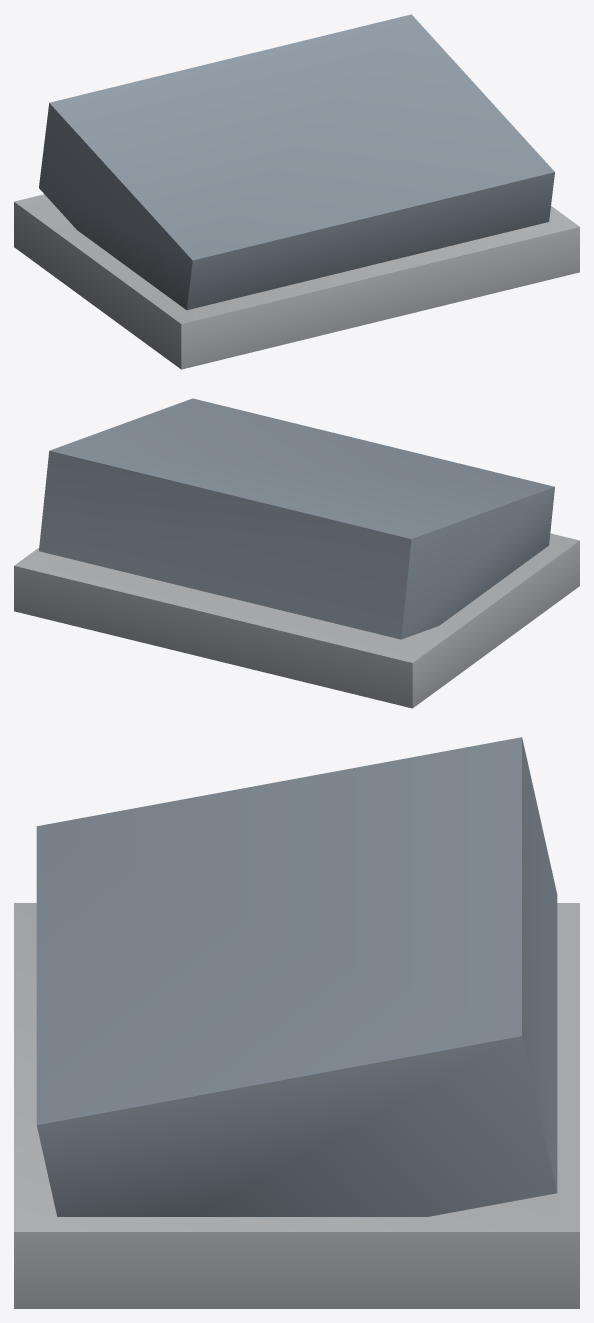
Rendered from skylight.lod2.glb.
3 views of the same model, one above another, from view 1: azimuth 30°, elevation 25°; view 2: azimuth 150°, elevation 25°; view 3: azimuth 270°, elevation 25° (orthographic). The views are drawn at different scales.
Parts seen in each view (by area): view 1: props_skylight.lod2; view 2: props_skylight.lod2; view 3: props_skylight.lod2.
Boxes of the visible parts, x1,y1,x2,y2 form: props_skylight.lod2: (14, 14, 579, 369); props_skylight.lod2: (14, 398, 579, 708); props_skylight.lod2: (14, 737, 579, 1308).
Size of the model in its own units: 2.2 by 0.8041 by 1.6.
